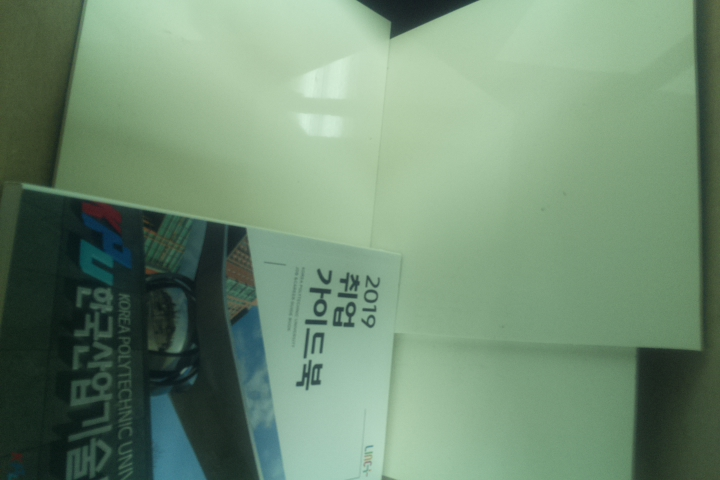book: (2, 179, 406, 480)
